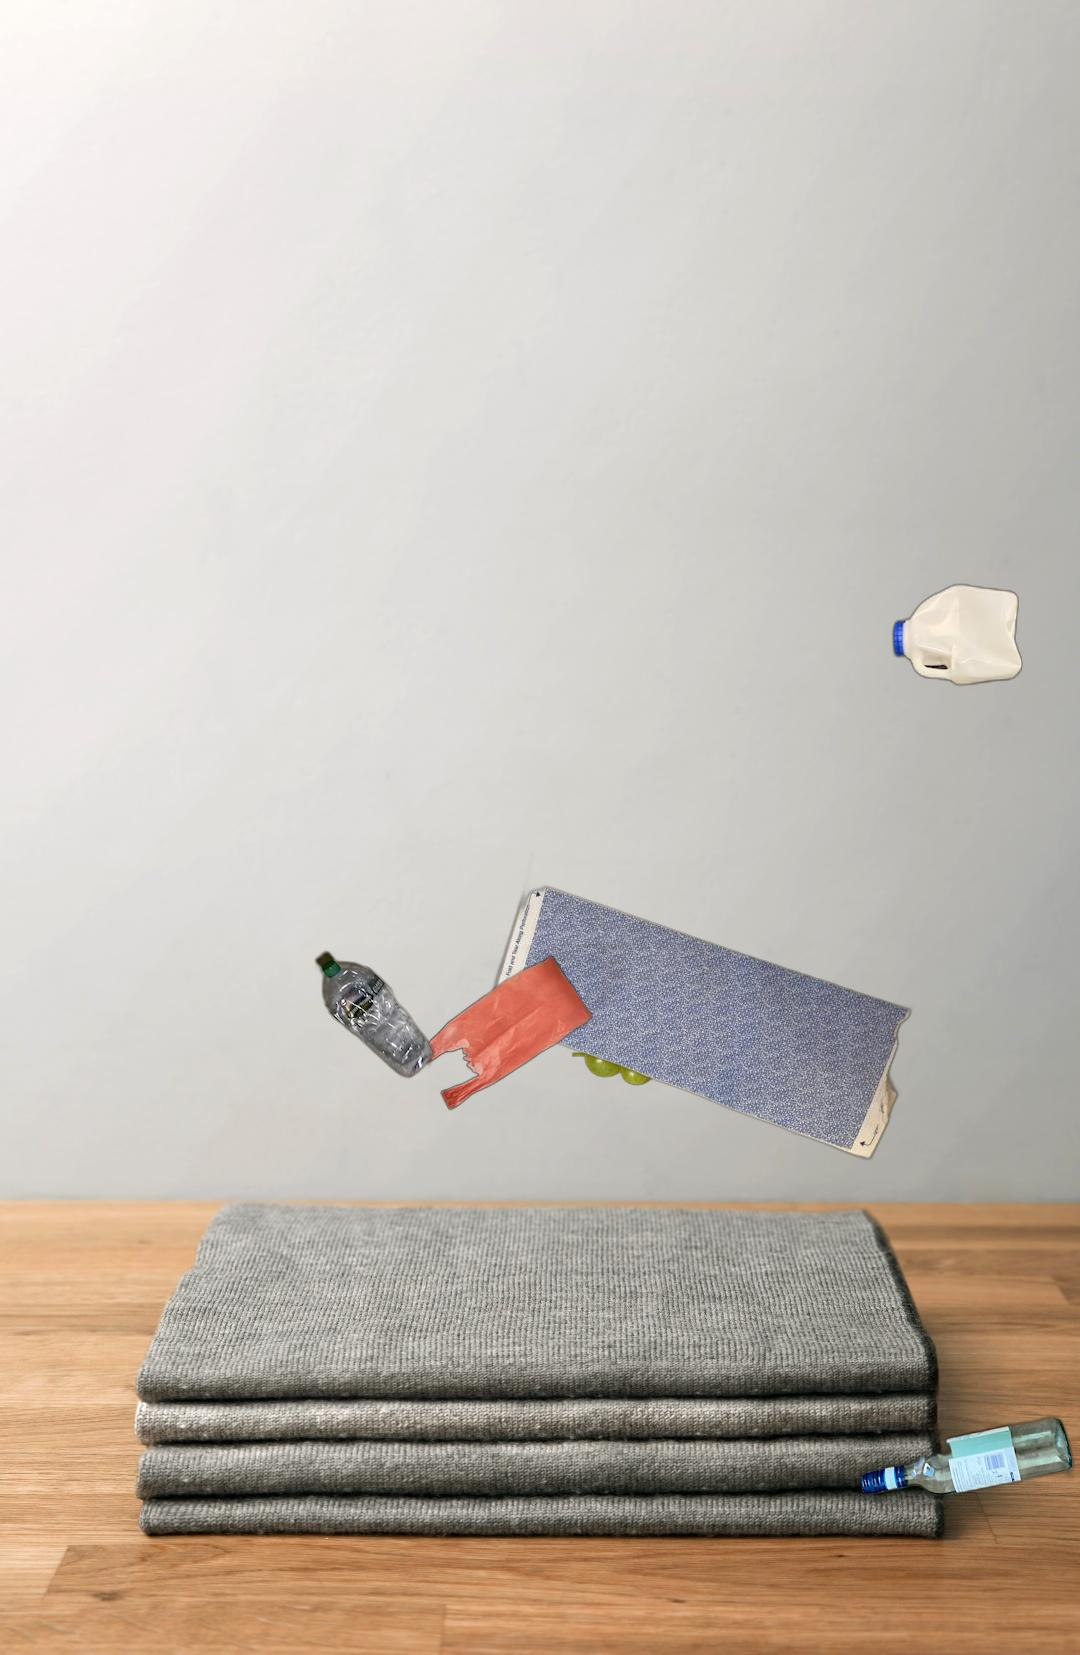biological: (571, 996, 728, 1088)
glass: (856, 1411, 1078, 1501)
paper: (483, 849, 921, 1163)
plastic-bag: (414, 945, 700, 1244)
plastic-bottles: (313, 948, 439, 1081), (888, 579, 1027, 691)
